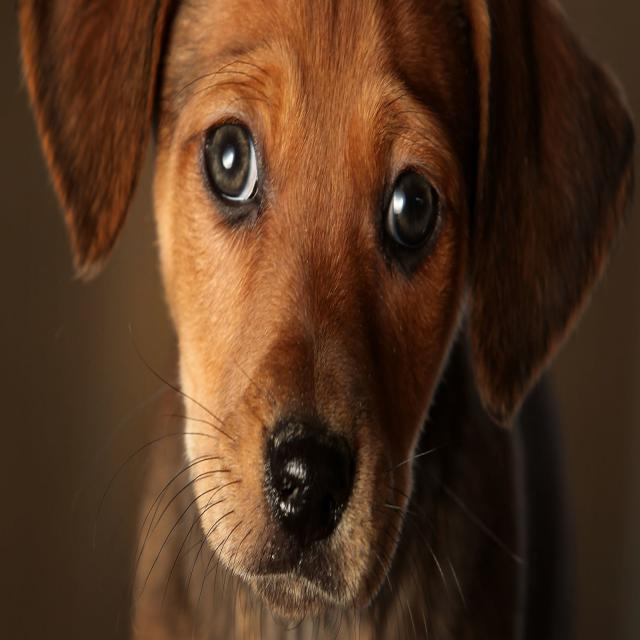eye: (377, 160, 444, 264), (201, 113, 266, 218)
